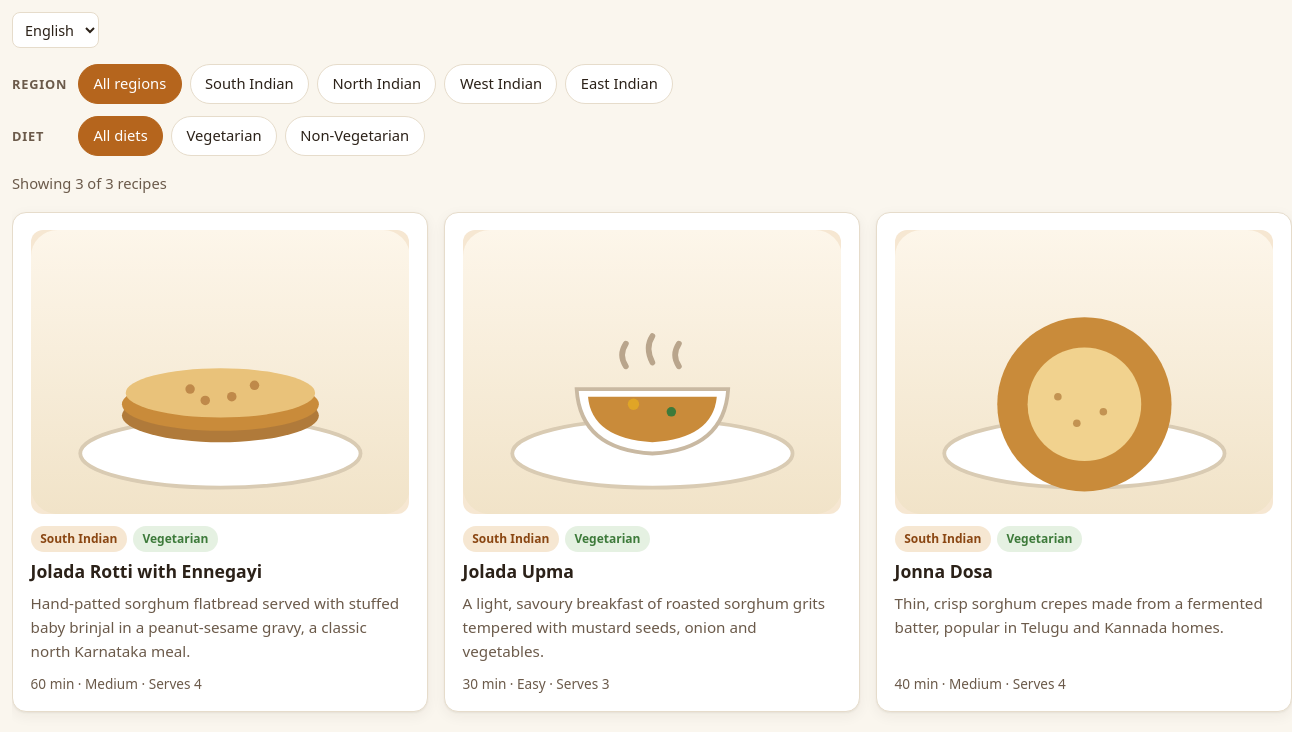
Scenario: language switcher › switches the interface to Tamil
Select "தமிழ்" in the dropdown named "Language": (56, 30) x1=12 y1=12 x2=99 y2=48
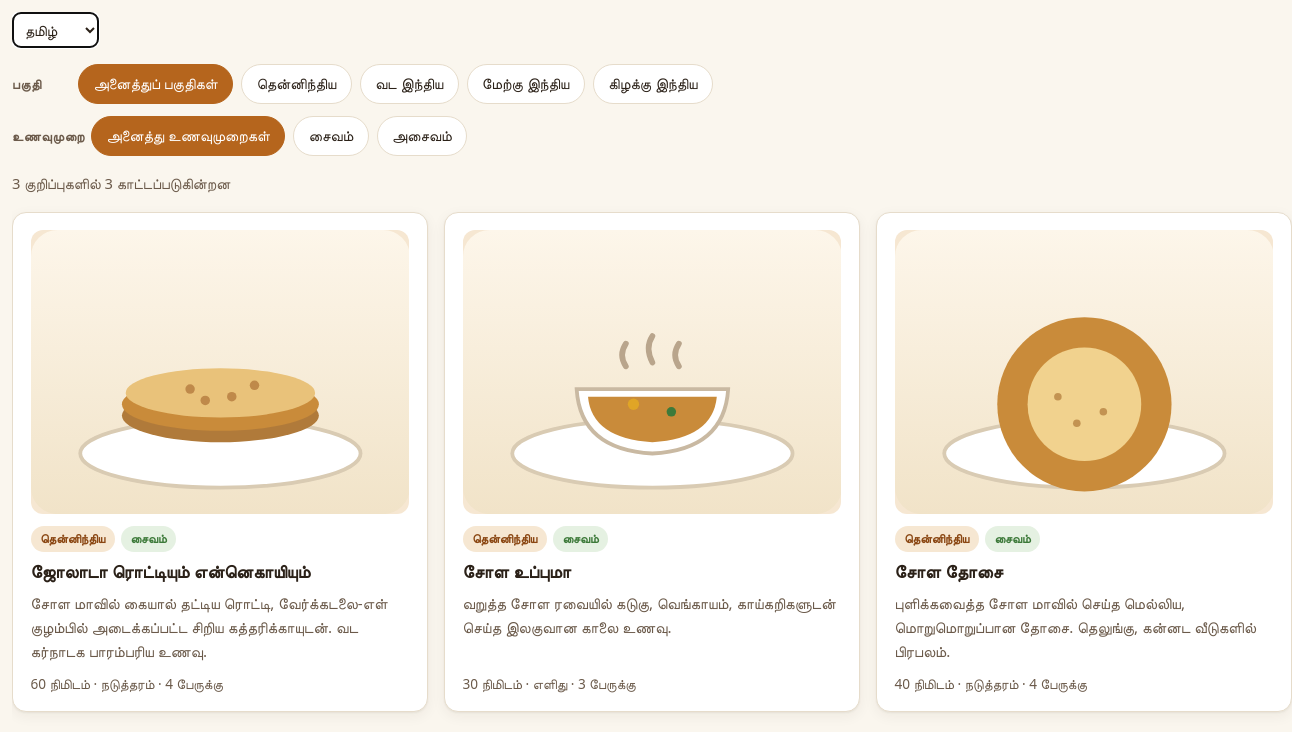
Now the button "All regions" is gone
